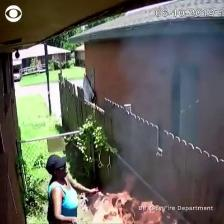person: (46, 155, 97, 223)
